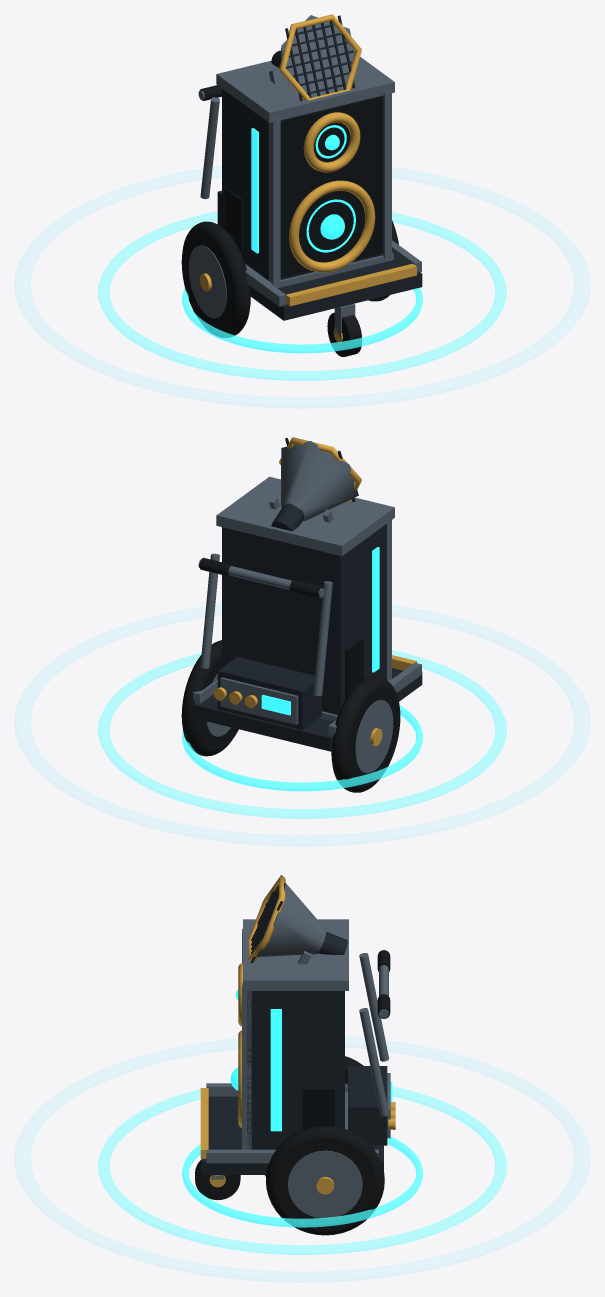
File: speaker-herald.glb
3 views of the same model, one above another, from view 1: azimuth 30°, elevation 25°; view 2: azimuth 150°, elevation 25°; view 3: azimuth 270°, elevation 25° (orthographic).
Parts seen in each view (by area): view 1: baffle, wave_ring_1, cabinet_body, cabinet_cap, deck, drive_wheel_l_tire, woofer_bezel, wave_ring_0, horn_flare, horn, baffle_frame_l, drive_wheel_l_rim (+11 smaller); view 2: cabinet_body, wave_ring_1, cabinet_cap, horn_flare, amp_body, deck, drive_wheel_l_tire, wave_ring_0, drive_wheel_r_tire, drive_wheel_l_rim, amp_face, drive_wheel_l_tread (+9 smaller); view 3: cabinet_body, wave_ring_1, cabinet_cap, drive_wheel_r_tire, drive_wheel_r_rim, wave_ring_0, deck, horn_flare, drive_wheel_r_tread, amp_body, baffle_frame_r, side_strip_r (+8 smaller).
Boxes of the visible parts, x1,y1,x2,y2 form: baffle: [280, 96, 383, 277]; wave_ring_1: [98, 211, 506, 380]; cabinet_body: [222, 88, 382, 280]; cabinet_cap: [216, 57, 394, 122]; deck: [249, 258, 422, 320]; drive_wheel_l_tire: [181, 221, 250, 337]; woofer_bezel: [289, 180, 375, 272]; wave_ring_0: [182, 287, 422, 353]; horn_flare: [281, 15, 358, 97]; horn: [285, 15, 355, 101]; baffle_frame_l: [268, 118, 280, 285]; drive_wheel_l_rim: [188, 245, 226, 318]; cabinet_body: [222, 524, 386, 714]; wave_ring_1: [98, 650, 506, 818]; cabinet_cap: [216, 476, 394, 556]; horn_flare: [281, 441, 358, 520]; amp_body: [217, 657, 321, 729]; deck: [192, 668, 422, 751]; drive_wheel_l_tire: [331, 676, 400, 792]; wave_ring_0: [182, 705, 422, 791]; drive_wheel_r_tire: [181, 640, 238, 756]; drive_wheel_l_rim: [355, 700, 393, 773]; amp_face: [220, 677, 298, 724]; drive_wheel_l_tread: [350, 690, 397, 782]; cabinet_body: [247, 991, 344, 1149]; wave_ring_1: [98, 1086, 506, 1254]; cabinet_cap: [243, 919, 348, 990]; drive_wheel_r_tire: [266, 1125, 384, 1235]; drive_wheel_r_rim: [288, 1150, 362, 1218]; wave_ring_0: [182, 1136, 422, 1227]; deck: [201, 1096, 383, 1174]; horn_flare: [256, 883, 326, 957]; drive_wheel_r_tread: [277, 1141, 372, 1227]; amp_body: [348, 1066, 387, 1145]; baffle_frame_r: [242, 983, 251, 1149]; side_strip_r: [270, 1009, 281, 1131].
Size of the model in its own units: 3.54 by 2.13 by 3.54.
